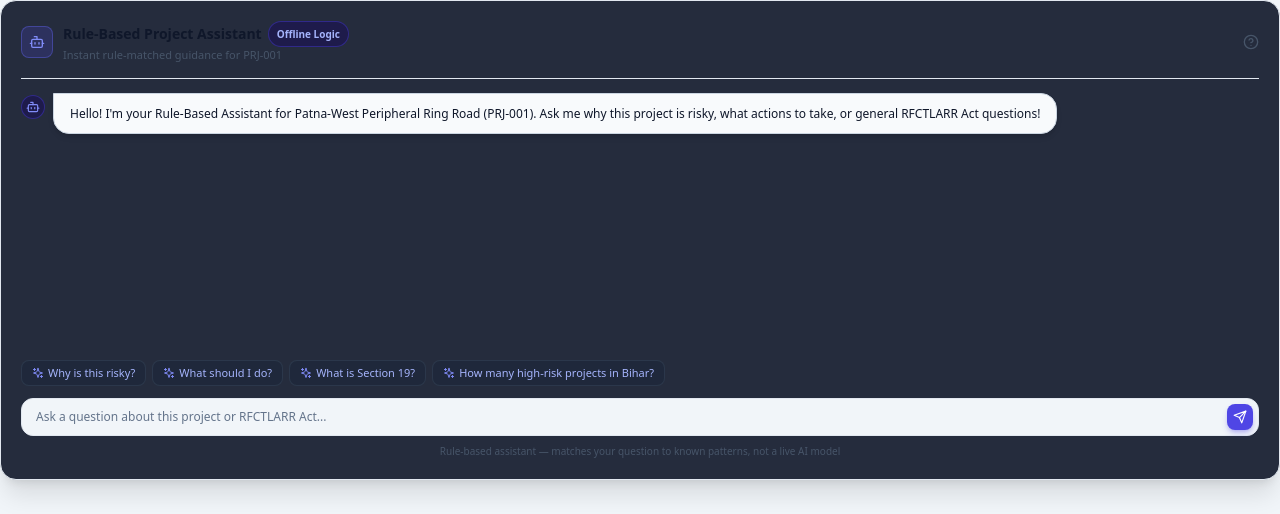
Test: ProjectAssistant.jsx — Rule-Based Project Assistant Component › 3. typing input + clicking send appends both messages
Type "What is Section 19?" into the field with placeholder "Ask a question about this project or RFCTLARR Act...".
click(640, 417); type("What is Section 19?")  # box [21, 398, 1259, 436]
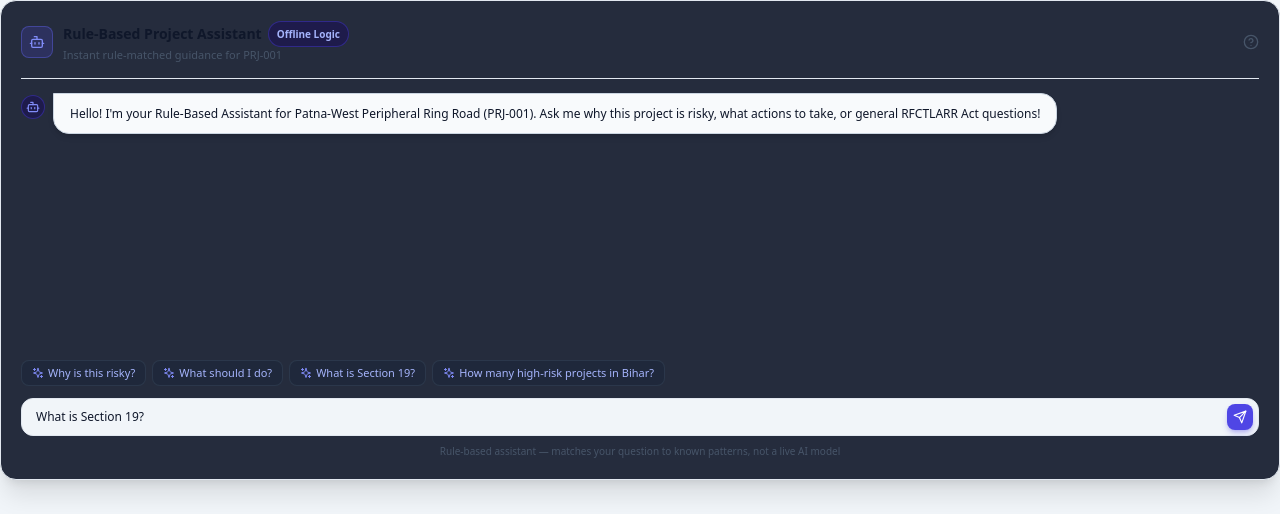
Click the button named "Send message".
click(1240, 417)  # box [1227, 404, 1253, 430]
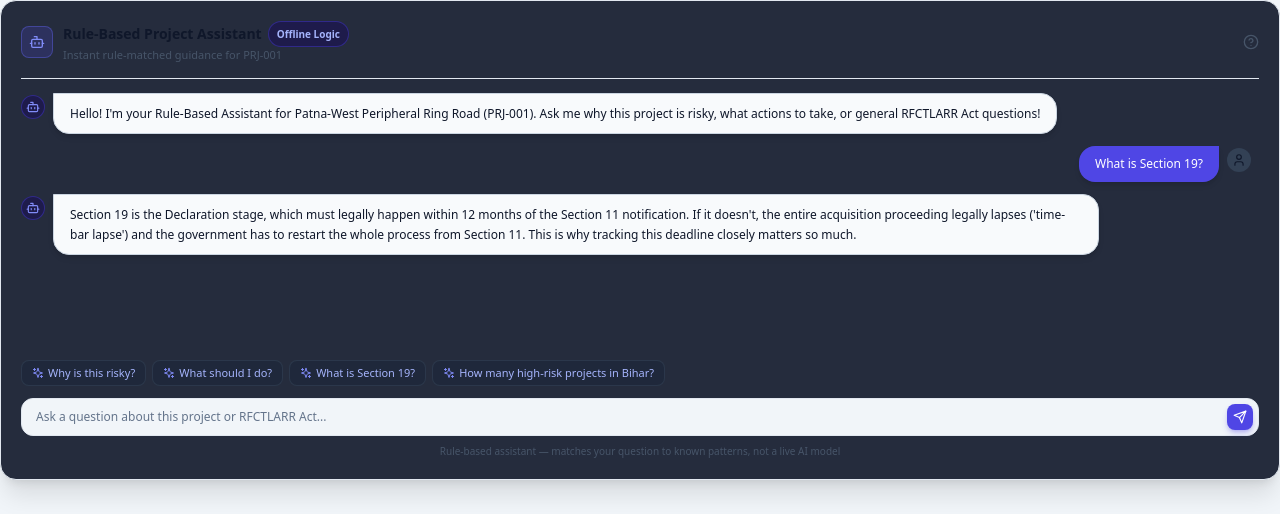
Check: the text "Section 19 is the Declaration stage" is shown, box [70, 206, 1065, 242]
